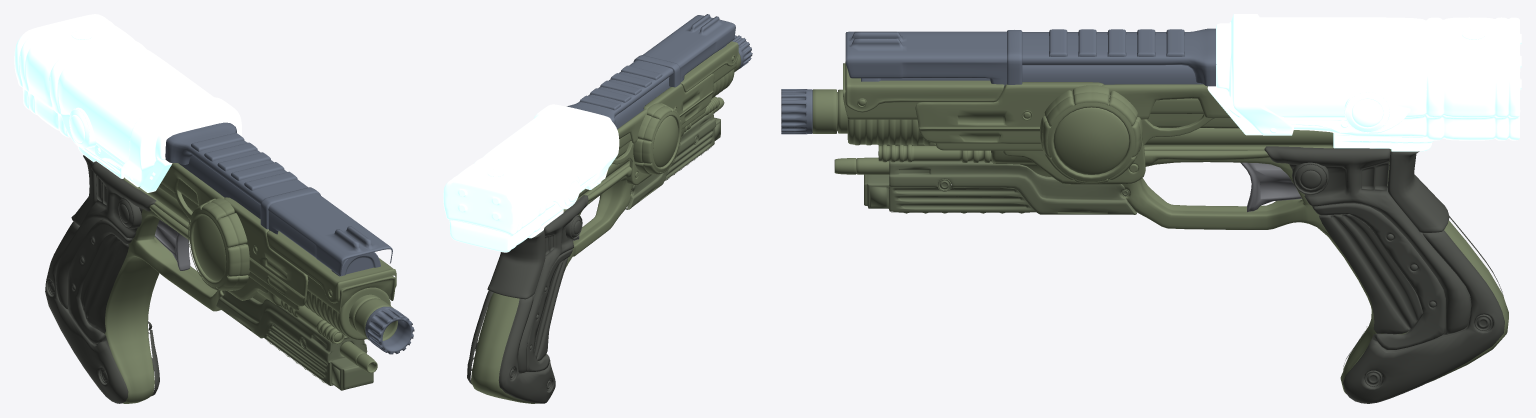
Rendered from pistol.glb.
3 views of the same model, side by side, from view 1: azimuth 30°, elevation 25°; view 2: azimuth 150°, elevation 25°; view 3: azimuth 270°, elevation 25° (orthographic). The views are drawn at different scales.
Parts seen in each view (by area): view 1: Water_Tank, BodyCover, GripCover, TopCover, Body, UnderCover, Nozzle, Trigger; view 2: Water_Tank, GripCover, BodyCover, TopCover, Body, UnderCover, Nozzle; view 3: Water_Tank, GripCover, BodyCover, TopCover, Body, UnderCover, Trigger, Nozzle.
Part boxes in pixels (bbox=[...]): Water_Tank: bbox=[14, 14, 241, 192]; BodyCover: bbox=[149, 163, 396, 344]; GripCover: bbox=[45, 155, 159, 403]; TopCover: bbox=[165, 122, 392, 276]; Body: bbox=[102, 177, 397, 403]; UnderCover: bbox=[216, 290, 373, 390]; Nozzle: bbox=[365, 306, 414, 354]; Trigger: bbox=[154, 220, 190, 270]; Water_Tank: bbox=[443, 104, 619, 252]; GripCover: bbox=[467, 195, 588, 403]; BodyCover: bbox=[588, 41, 738, 201]; TopCover: bbox=[567, 14, 735, 128]; Body: bbox=[471, 53, 741, 403]; UnderCover: bbox=[625, 111, 720, 209]; Nozzle: bbox=[732, 35, 752, 69]; Water_Tank: bbox=[1207, 14, 1521, 151]; GripCover: bbox=[1264, 146, 1504, 403]; BodyCover: bbox=[843, 62, 1269, 184]; TopCover: bbox=[845, 28, 1216, 86]; Body: bbox=[812, 89, 1508, 393]; UnderCover: bbox=[864, 161, 1136, 214]; Trigger: bbox=[1240, 162, 1301, 212]; Nozzle: bbox=[781, 89, 812, 134].
Size of the model in its own units: 0.5614 by 1.6 by 2.95.
